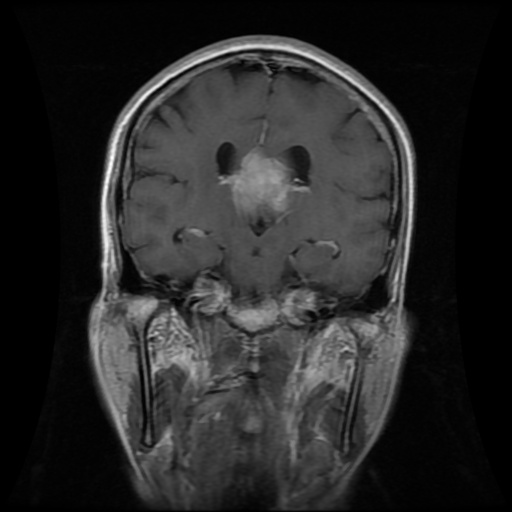meningioma: (222, 147, 310, 225)
